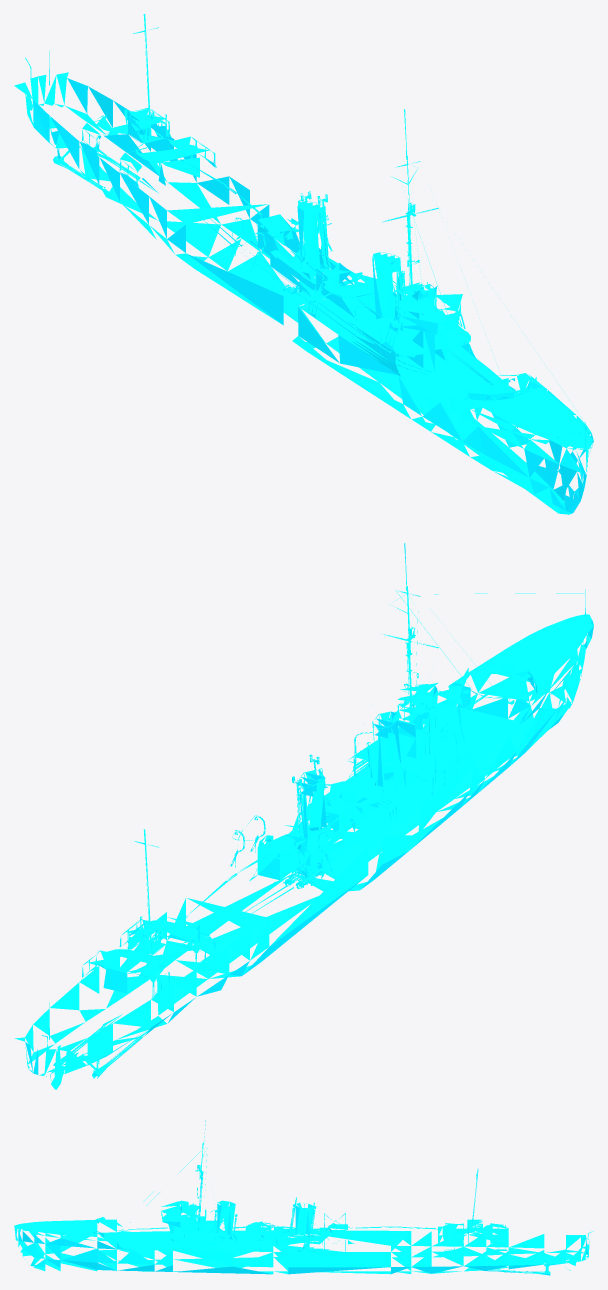
Rendered from True_Kamikaze.glb.
The picture shows the model from 3 angles, top to bottom: view 1: azimuth 30°, elevation 25°; view 2: azimuth 150°, elevation 25°; view 3: azimuth 270°, elevation 25°; orthographic projection. The views are drawn at different scales.
Bounding box in the file's own units: 0.6338 × 1.99 × 6.86.
